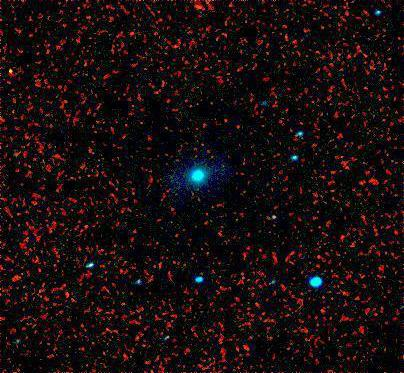star: (0, 60, 25, 90)
